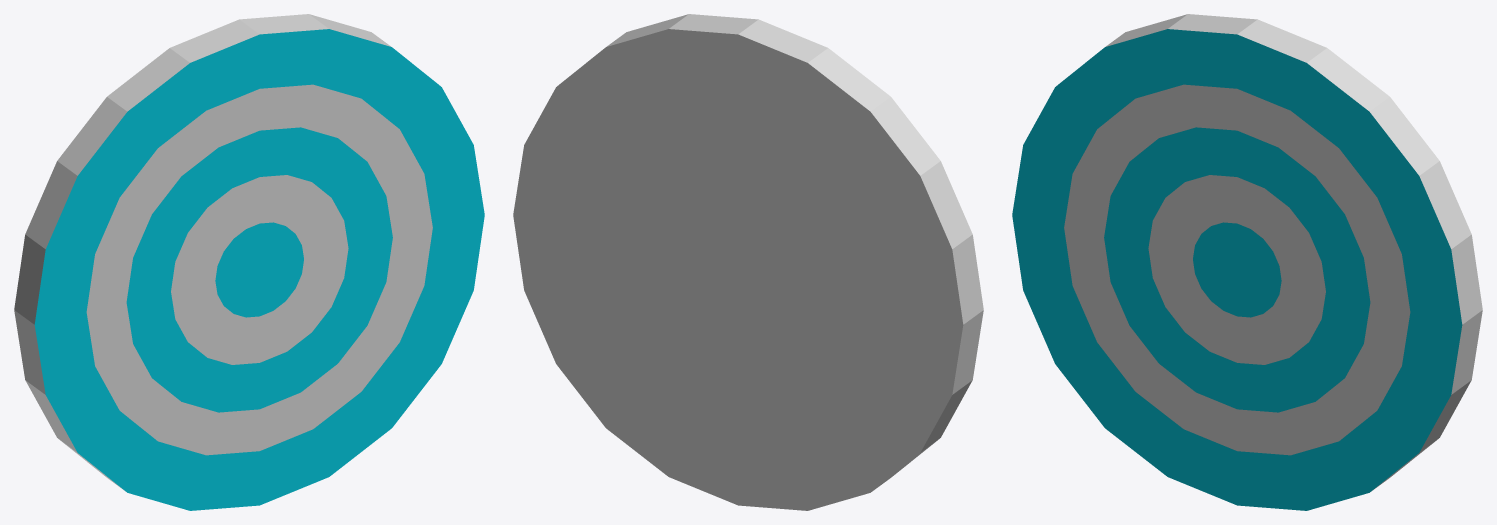
The model's file is SkeeBallWheel.fbx.
3 views of the same model, side by side, from view 1: azimuth 30°, elevation 25°; view 2: azimuth 150°, elevation 25°; view 3: azimuth 330°, elevation 25° (orthographic).
Visible parts, largest first — view 1: Cylinder.005; view 2: Cylinder.005; view 3: Cylinder.005.
Part boxes in pixels (x1,y1,x2,y2): Cylinder.005: (14, 14, 484, 510); Cylinder.005: (513, 14, 983, 510); Cylinder.005: (1012, 14, 1482, 510).
Bounding box in the file's own units: 2535 × 2535 × 200.
